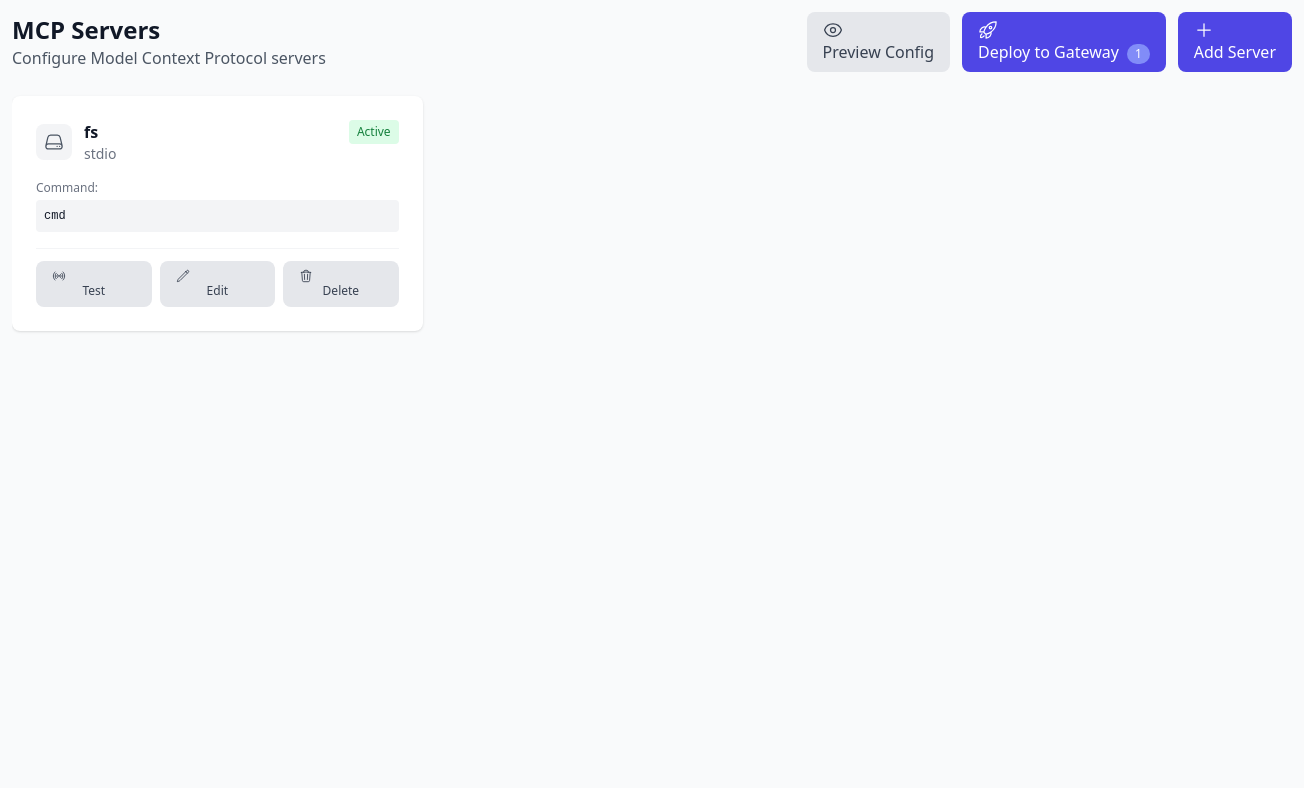
Test case: MCPServers › shows http fields when server type changed to http
Click the button "Add Server" at (1235, 42), box [1178,12,1292,72]
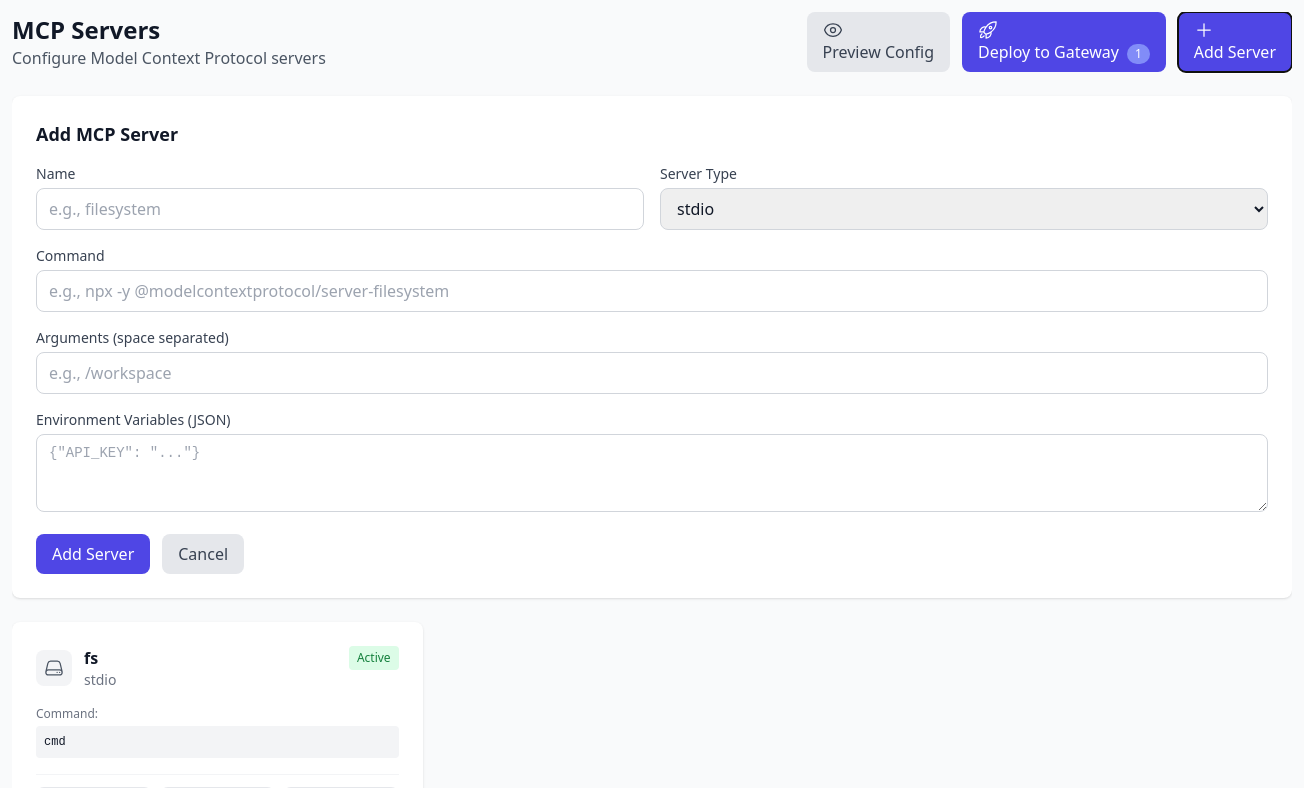
Select "http" in the dropdown labelled "Server Type" at (964, 209), box [660,188,1268,230]
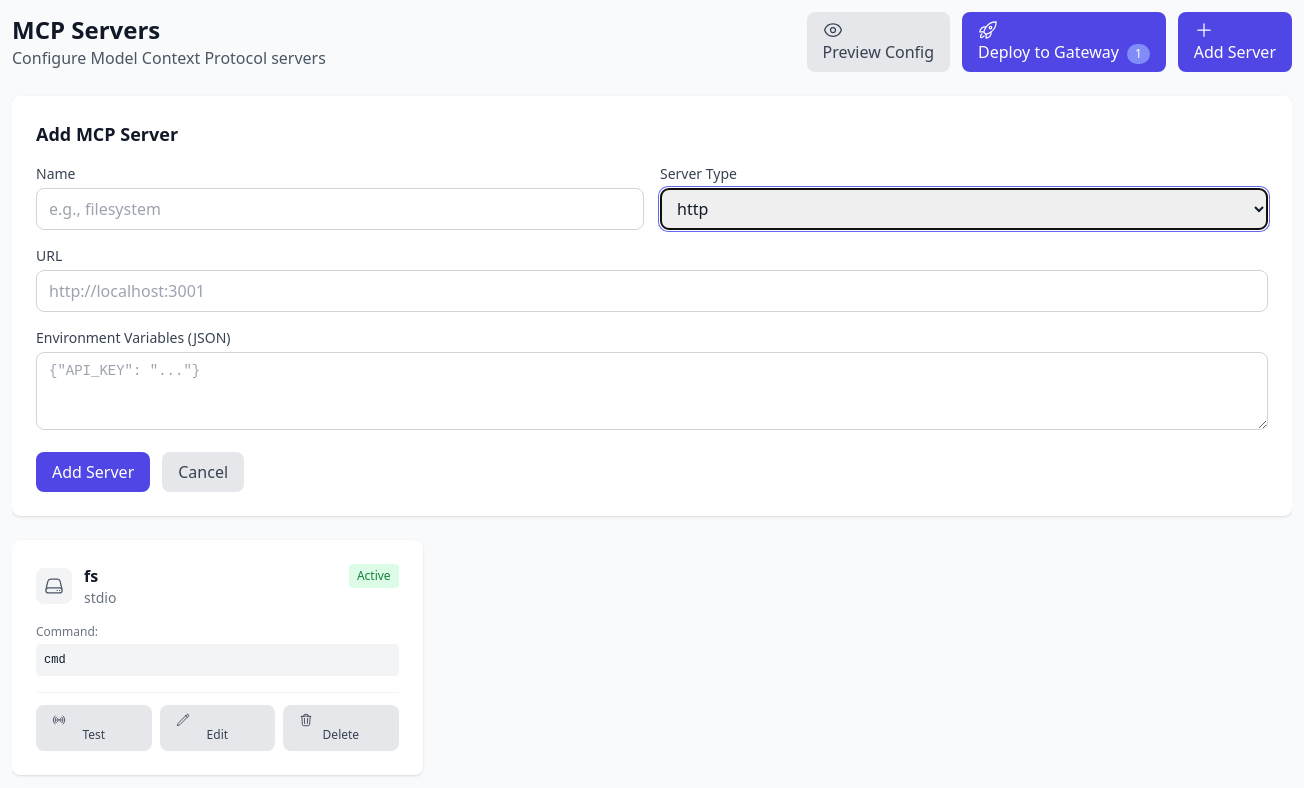
Result: the field labelled "URL" is shown at [36,270,1268,312]
Result: the label labelled "Arguments (space separated)" is gone
